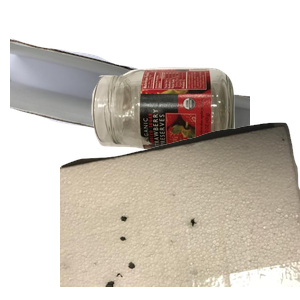cardboard: (10, 35, 250, 188)
glass: (89, 65, 300, 212)
plastic: (76, 162, 264, 300)
trash: (60, 120, 300, 300)
